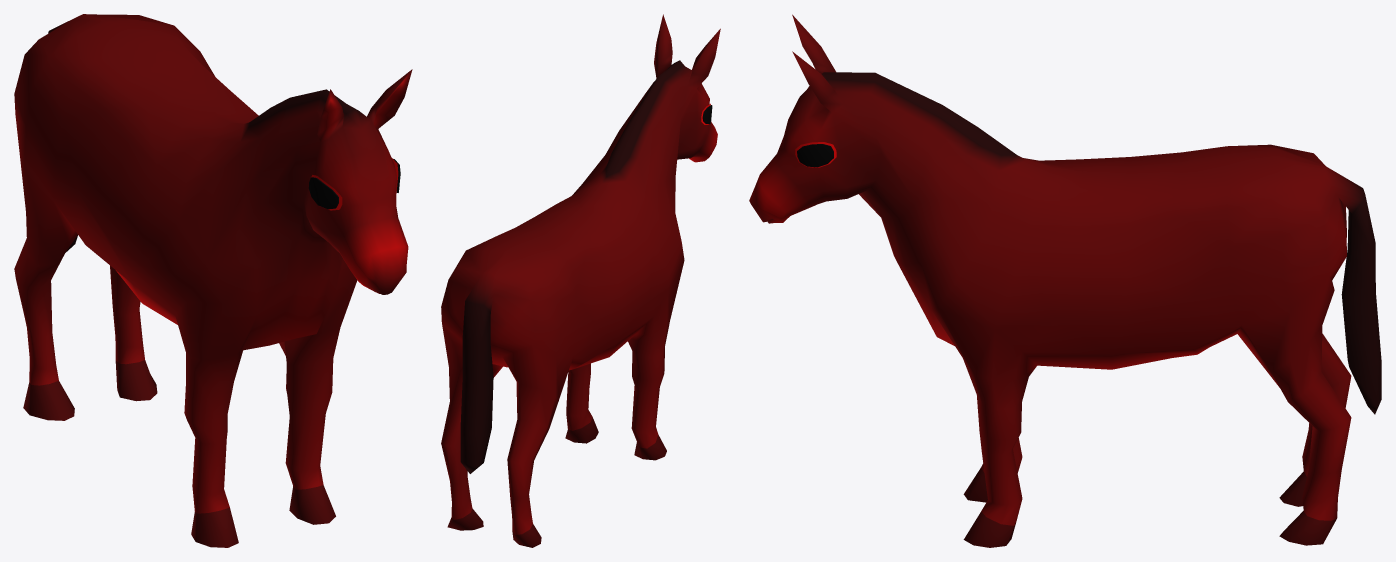
Rendered from Animals_Donkey.fbx.
The picture shows the model from 3 angles, left to right: view 1: azimuth 30°, elevation 25°; view 2: azimuth 150°, elevation 25°; view 3: azimuth 270°, elevation 25°; orthographic projection. The views are drawn at different scales.
Parts seen in each view (by area): view 1: base; view 2: base; view 3: base.
Part boxes in pixels (left/top/right/bottom): base: left=14, top=14, right=412, bottom=547; base: left=441, top=14, right=720, bottom=547; base: left=749, top=14, right=1381, bottom=547.
Size of the model in its own units: 51.11 by 153 by 181.
